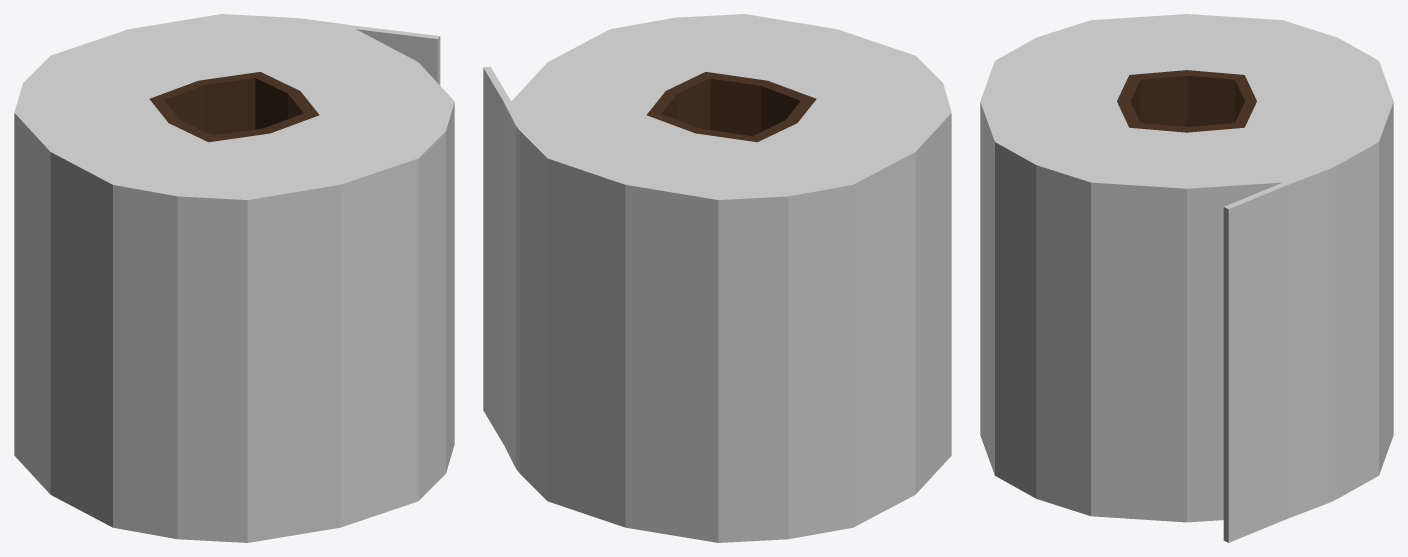
Rendered from rouleau_pq_plein.fbx.
3 renders of one model, left to right at view 1: azimuth 30°, elevation 25°; view 2: azimuth 150°, elevation 25°; view 3: azimuth 270°, elevation 25°, orthographic. The views are drawn at different scales.
Visible parts, largest first — view 1: rouleau pq plein; view 2: rouleau pq plein; view 3: rouleau pq plein.
Boxes of the visible parts, x1,y1,x2,y2 form: rouleau pq plein: (14, 14, 454, 542); rouleau pq plein: (483, 14, 951, 542); rouleau pq plein: (980, 14, 1393, 542).
Bounding box in the file's own units: 125 × 99.98 × 112.
